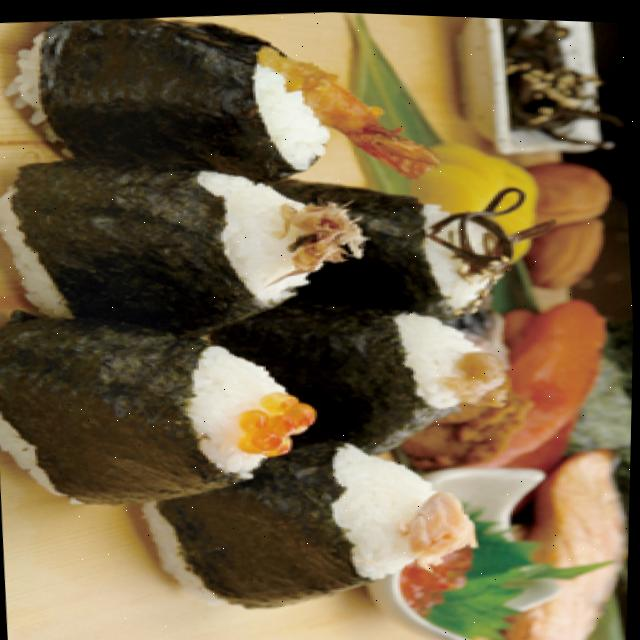米饭主食: (0, 0, 553, 637)
